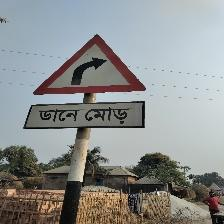Right-turn: (25, 35, 148, 134)
